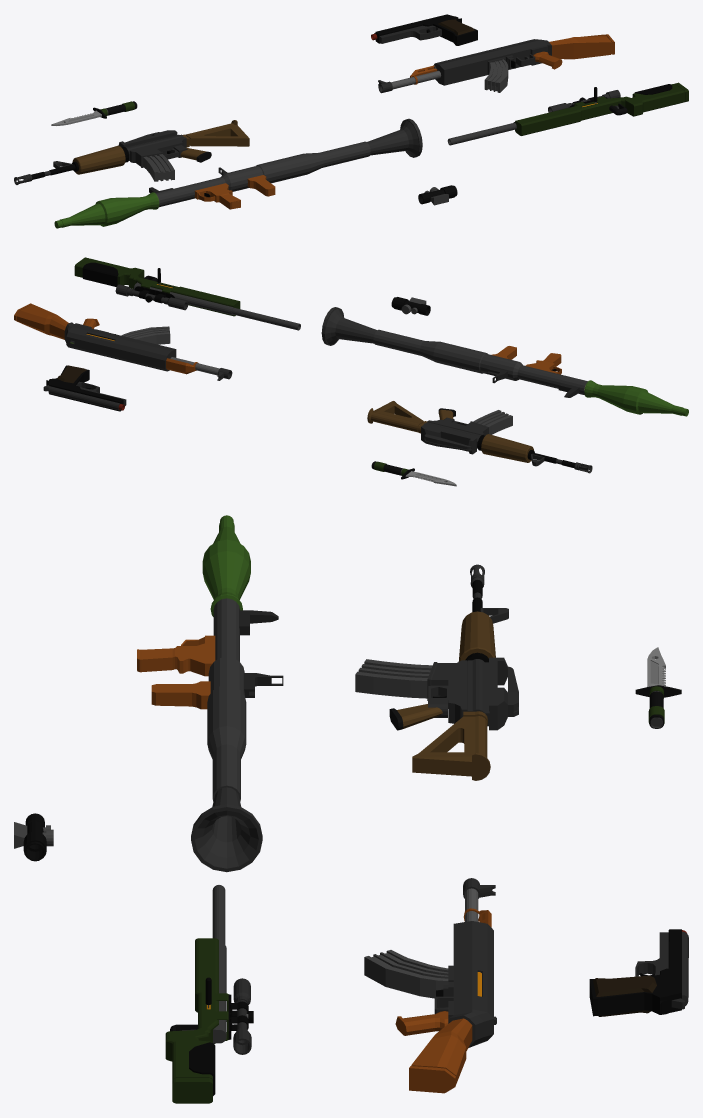
Rendered from LowpolyGuns.fbx.
3 views of the same model, one above another, from view 1: azimuth 30°, elevation 25°; view 2: azimuth 150°, elevation 25°; view 3: azimuth 270°, elevation 25° (orthographic). The views are drawn at different scales.
Visible parts, largest first — view 1: RPG, AK, M4, Cube, Pistol, RPGAmmo, M4Magazine, Knife, AkMagazine, 4X Scope; view 2: RPG, AK, M4, Cube, RPGAmmo, Pistol, Knife, AkMagazine, M4Magazine, 4X Scope; view 3: RPG, M4, AK, Cube, Pistol, RPGAmmo, AkMagazine, M4Magazine, Knife, 4X Scope.
Boxes of the visible parts, x1=… form: RPG: x1=149, y1=118, x2=422, y2=209; AK: x1=378, y1=34, x2=614, y2=93; M4: x1=14, y1=120, x2=249, y2=184; Cube: x1=447, y1=82, x2=688, y2=145; Pistol: x1=371, y1=14, x2=477, y2=45; RPGAmmo: x1=54, y1=192, x2=159, y2=228; M4Magazine: x1=143, y1=154, x2=174, y2=181; Knife: x1=51, y1=101, x2=137, y2=125; AkMagazine: x1=484, y1=59, x2=508, y2=92; 4X Scope: x1=418, y1=185, x2=457, y2=205; RPG: x1=321, y1=307, x2=587, y2=397; AK: x1=14, y1=303, x2=232, y2=380; M4: x1=367, y1=401, x2=592, y2=473; Cube: x1=74, y1=257, x2=300, y2=330; RPGAmmo: x1=584, y1=380, x2=688, y2=416; Pistol: x1=43, y1=365, x2=126, y2=411; Knife: x1=371, y1=461, x2=456, y2=486; AkMagazine: x1=121, y1=326, x2=170, y2=344; M4Magazine: x1=473, y1=410, x2=512, y2=434; 4X Scope: x1=391, y1=297, x2=430, y2=315; RPG: x1=137, y1=598, x2=283, y2=872; M4: x1=389, y1=564, x2=518, y2=780; AK: x1=395, y1=878, x2=496, y2=1093; Cube: x1=165, y1=885, x2=253, y2=1103; Pistol: x1=589, y1=929, x2=688, y2=1016; RPGAmmo: x1=202, y1=515, x2=250, y2=616; AkMagazine: x1=364, y1=950, x2=448, y2=998; M4Magazine: x1=355, y1=659, x2=432, y2=698; Knife: x1=635, y1=647, x2=681, y2=728; 4X Scope: x1=14, y1=813, x2=53, y2=861.
Bounding box in the file's own units: 1262 × 79.42 × 653.
